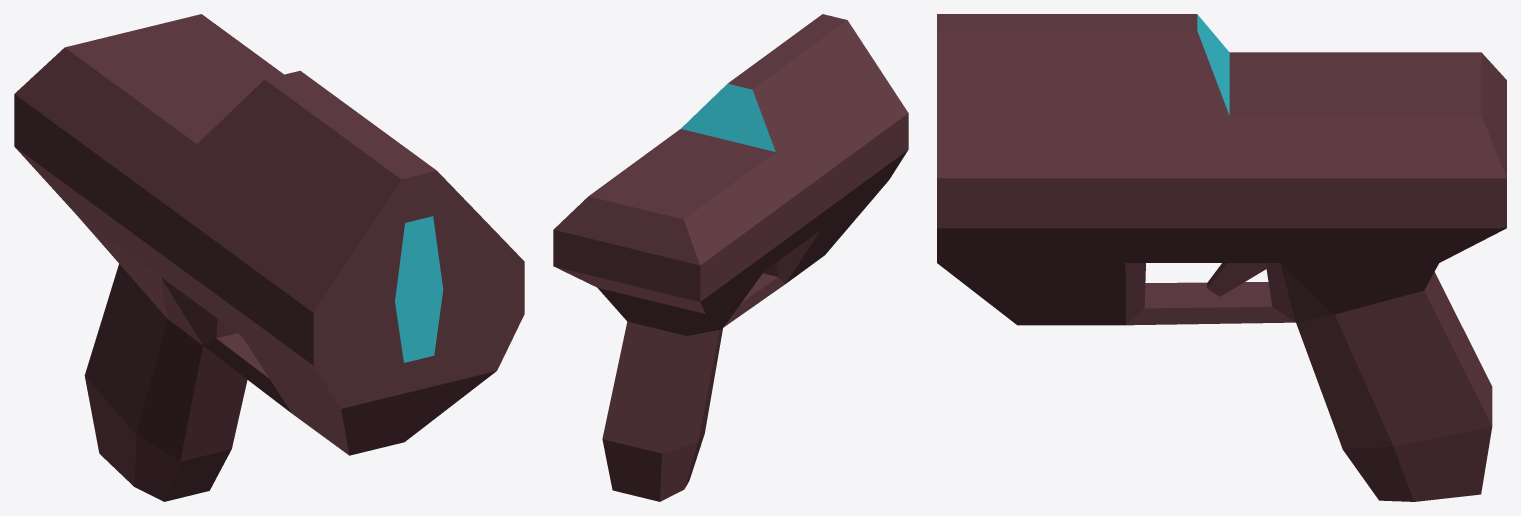
The model's file is matter-manipulator.fbx.
The picture shows the model from 3 angles, left to right: view 1: azimuth 30°, elevation 25°; view 2: azimuth 150°, elevation 25°; view 3: azimuth 270°, elevation 25°; orthographic projection. The views are drawn at different scales.
Visible parts, largest first — view 1: matter-manipulator; view 2: matter-manipulator; view 3: matter-manipulator.
Boxes of the visible parts, x1,y1,x2,y2 form: matter-manipulator: (14, 14, 524, 501); matter-manipulator: (553, 14, 908, 501); matter-manipulator: (937, 14, 1506, 501).
Size of the model in its own units: 0.1123 by 0.2499 by 0.2759.
